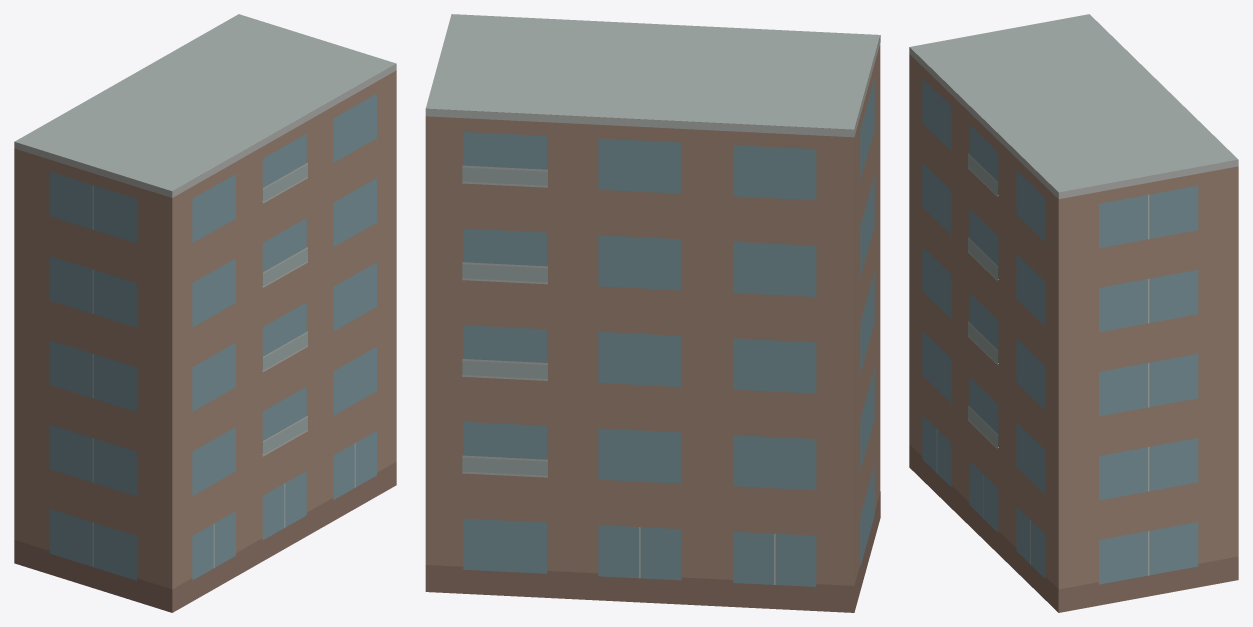
The model's file is residential-371e7b30-a07d-44d4-87f3-6f71498843c6.glb.
3 views of the same model, side by side, from view 1: azimuth 30°, elevation 25°; view 2: azimuth 150°, elevation 25°; view 3: azimuth 270°, elevation 25° (orthographic). The views are drawn at different scales.
Visible parts, largest first — view 1: residential-371e7b30-a07d-44d4-87f3-6f71498843c6.tmp; view 2: residential-371e7b30-a07d-44d4-87f3-6f71498843c6.tmp; view 3: residential-371e7b30-a07d-44d4-87f3-6f71498843c6.tmp.
Part boxes in pixels (box(x1,y1,x2,y2)): residential-371e7b30-a07d-44d4-87f3-6f71498843c6.tmp: box(14, 14, 396, 612); residential-371e7b30-a07d-44d4-87f3-6f71498843c6.tmp: box(425, 14, 880, 612); residential-371e7b30-a07d-44d4-87f3-6f71498843c6.tmp: box(909, 14, 1238, 612).
Size of the model in its own units: 13.9 by 15.25 by 10.83.
